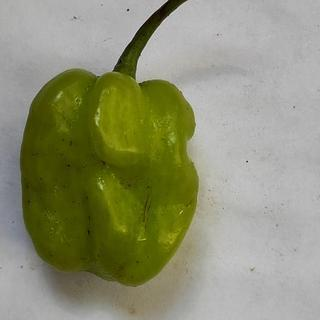Fly-bites: (24, 198, 37, 210), (79, 193, 91, 203), (99, 158, 108, 170), (84, 213, 94, 223), (85, 227, 94, 237), (68, 139, 75, 148), (65, 162, 72, 170)
striped: (142, 195, 153, 233)
